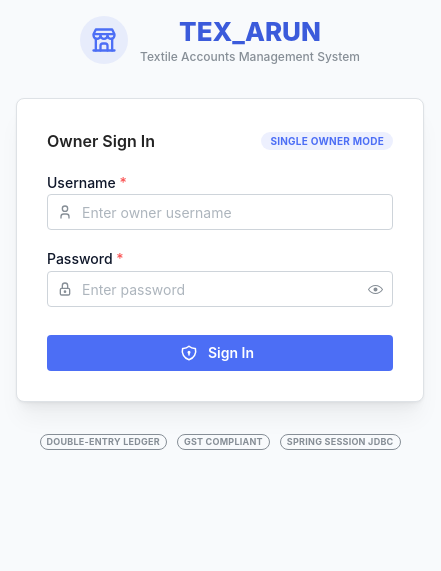
it: LoginPage Component › displays error alert banner on failed credentials
This screenshot has width=441, height=571.
Type "owner" into the field labelled "Username *".
click(220, 212); type("owner")  # box [47, 194, 393, 230]
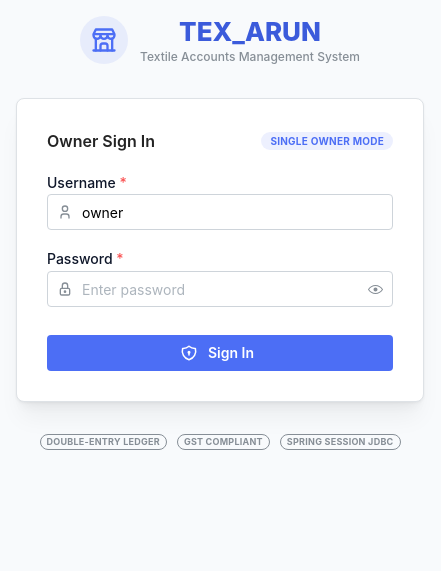
Type "WrongPass123!" into the password field labelled "Password *".
click(220, 289); type("WrongPass123!")  # box [48, 272, 392, 306]
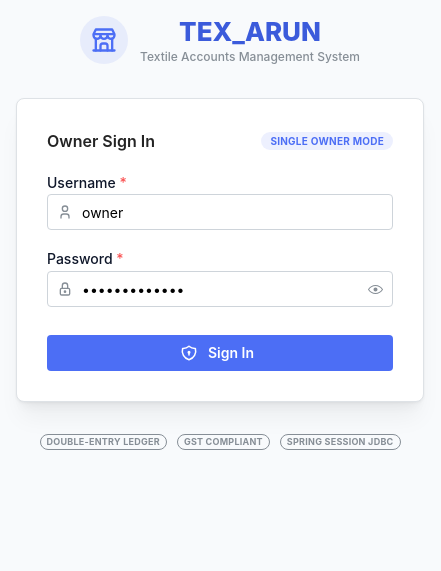
Click the button "Sign In".
click(220, 353)  # box [47, 335, 393, 371]
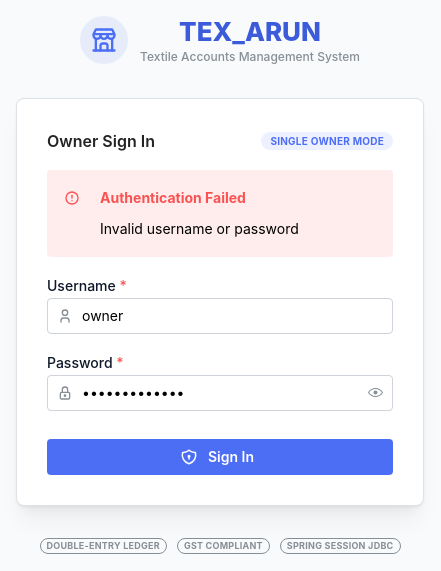
Now the text "Invalid username or password" is shown, box [100, 220, 299, 237]
